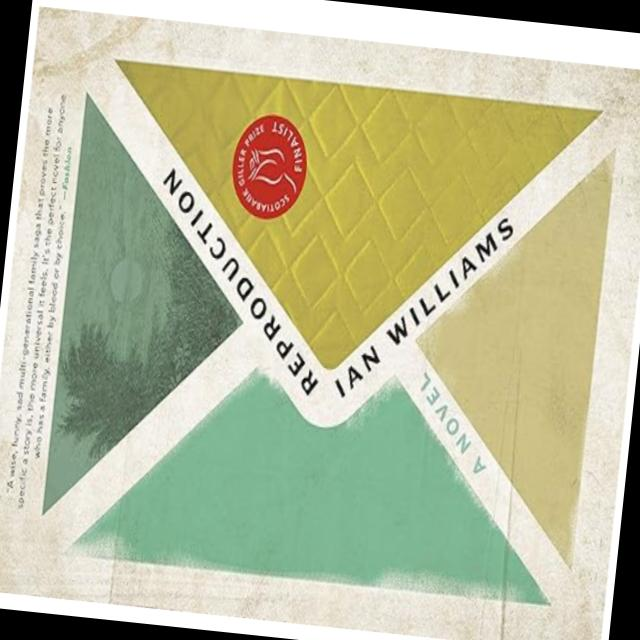titles-or-authors: (149, 145, 327, 411), (326, 199, 524, 421)
